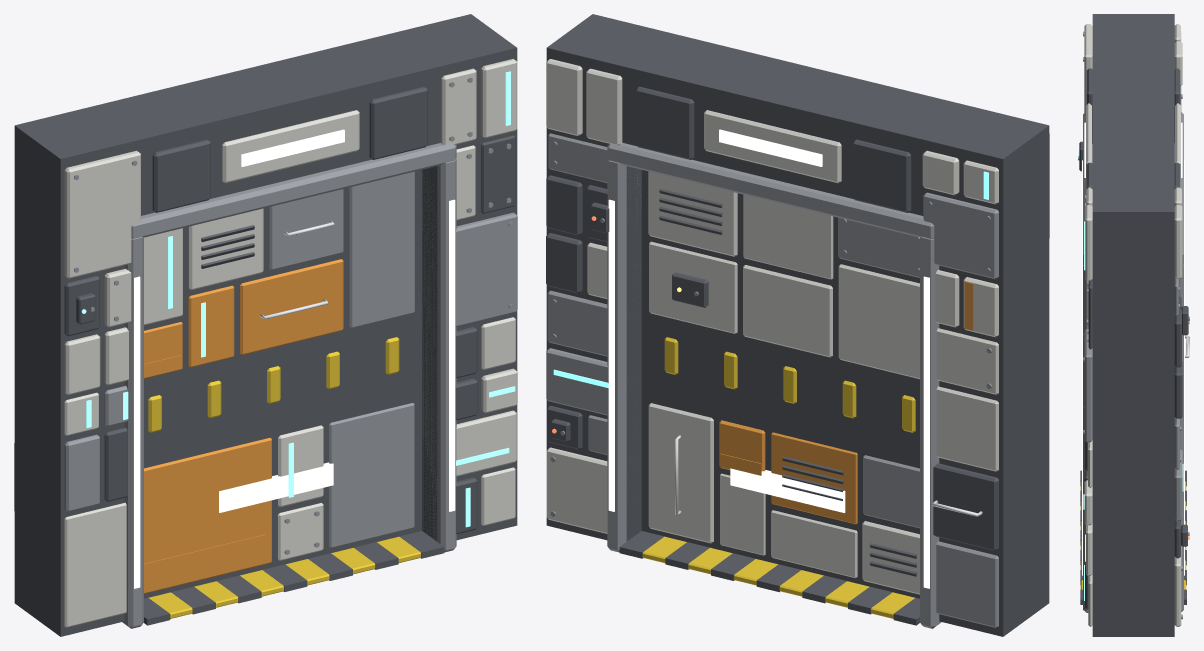
File: door_jaw.glb
The picture shows the model from 3 angles, left to right: view 1: azimuth 30°, elevation 25°; view 2: azimuth 150°, elevation 25°; view 3: azimuth 270°, elevation 25°; orthographic projection. The views are drawn at different scales.
Parts seen in each view (by area): view 1: frame, jaw_top, jaw_bottom; view 2: frame, jaw_top, jaw_bottom; view 3: frame.
Boxes of the visible parts, <box> form: frame: <box>14,14,517,636</box>; jaw_top: <box>144,170,422,449</box>; jaw_bottom: <box>144,325,422,598</box>; frame: <box>546,14,1049,636</box>; jaw_top: <box>641,170,919,449</box>; jaw_bottom: <box>641,325,919,598</box>; frame: <box>1078,14,1189,636</box>.
Bounding box in the file's own units: 4 × 4.05 × 0.955.
